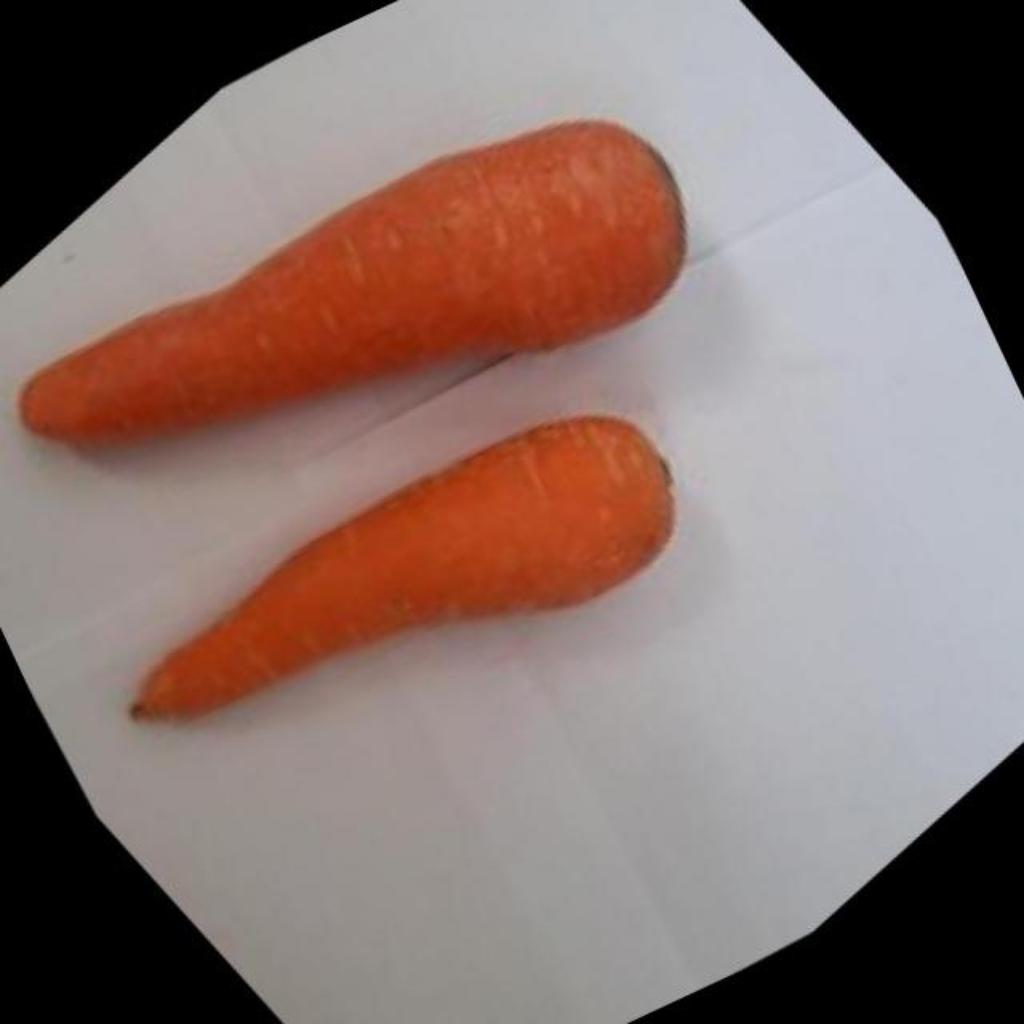carrot: (20, 120, 686, 444), (132, 416, 672, 717)
